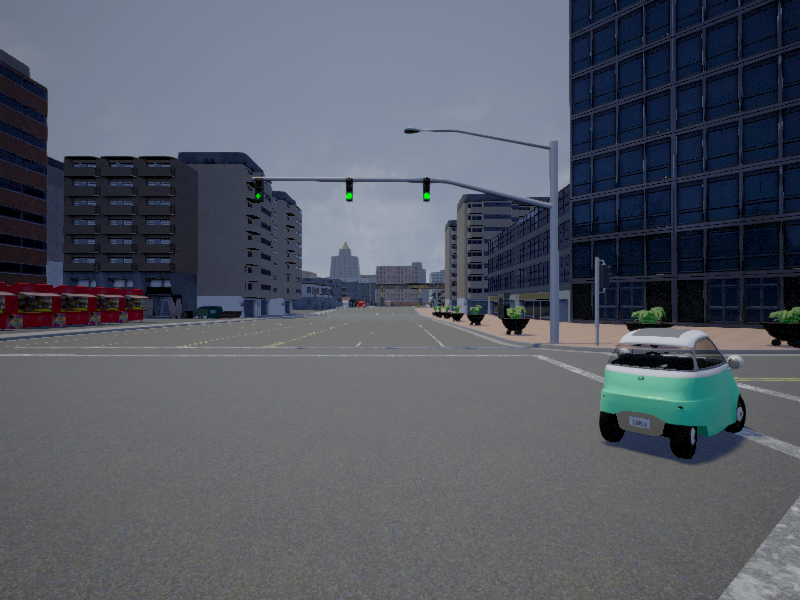Benign: (601, 328, 748, 461)
